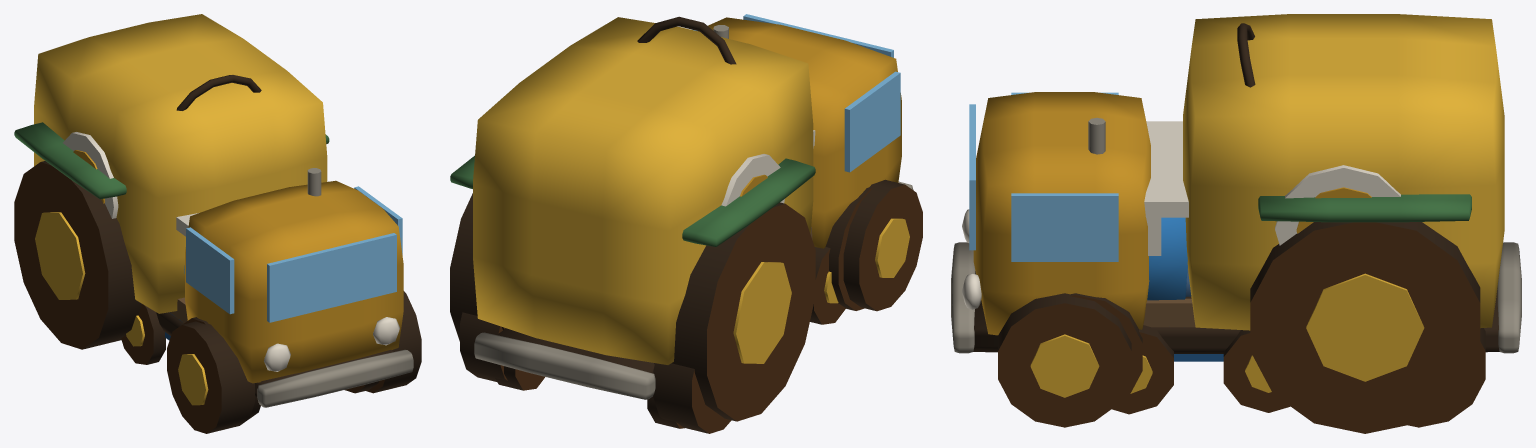
Rendered from vehicles.glb.
The picture shows the model from 3 angles, left to right: view 1: azimuth 30°, elevation 25°; view 2: azimuth 150°, elevation 25°; view 3: azimuth 270°, elevation 25°; orthographic projection. The views are drawn at different scales.
Parts seen in each view (by area): view 1: golden_truck, tractor_wheel_br, truck_wheel_fr, tractor, cart_wheel_r, truck_wheel_fl; view 2: golden_truck, tractor_wheel_br, truck_wheel_fr, tractor, truck_wheel_br, tractor_wheel_bl, tractor_wheel_fr, truck_wheel_bl, truck_pickup_wheel_fr, truck_pickup_wheel_bl; view 3: golden_truck, tractor_wheel_bl, truck_wheel_fl, truck_pickup, tractor, cart_wheel_l, truck_pickup_wheel_fl, truck_wheel_bl, tractor_wheel_fl, cart.
Part boxes in pixels (x1,y1,x2,y2): golden_truck: (34,14,413,407); tractor_wheel_br: (14,161,141,349); truck_wheel_fr: (167,321,254,433); tractor: (14,75,329,199); cart_wheel_r: (121,304,165,364); truck_wheel_fl: (366,291,421,393); golden_truck: (473,14,913,399); tractor_wheel_br: (654,202,815,421); truck_wheel_fr: (843,179,922,311); tractor: (450,16,815,246); truck_wheel_br: (653,363,731,433); tractor_wheel_bl: (450,193,505,341); tractor_wheel_fr: (825,187,872,310); truck_wheel_bl: (460,312,507,381); truck_pickup_wheel_fr: (810,247,845,324); truck_pickup_wheel_bl: (495,366,544,390); golden_truck: (951,14,1521,353); tractor_wheel_bl: (1250,222,1480,433); truck_wheel_fl: (998,293,1131,427); truck_pickup: (1144,121,1223,361); tractor: (1088,23,1471,298); cart_wheel_l: (1223,330,1290,412); truck_pickup_wheel_fl: (1112,325,1173,414); truck_wheel_bl: (1408,328,1485,427); tractor_wheel_fl: (1070,293,1142,402); cart: (1143,298,1195,327).
Bounding box in the file's own units: 1.54 × 1.74 × 2.66.
